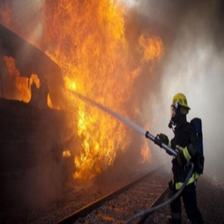fire: (6, 1, 159, 184)
